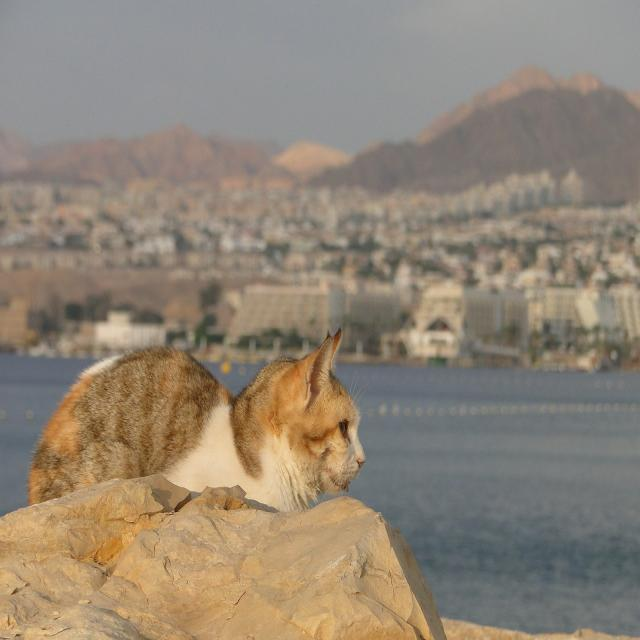cat: (29, 330, 365, 512)
